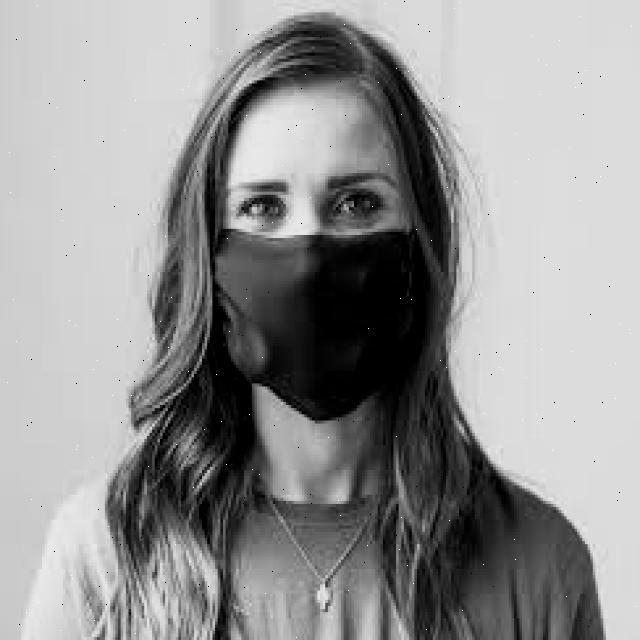fake: (207, 225, 431, 425)
real: (226, 90, 414, 436)
